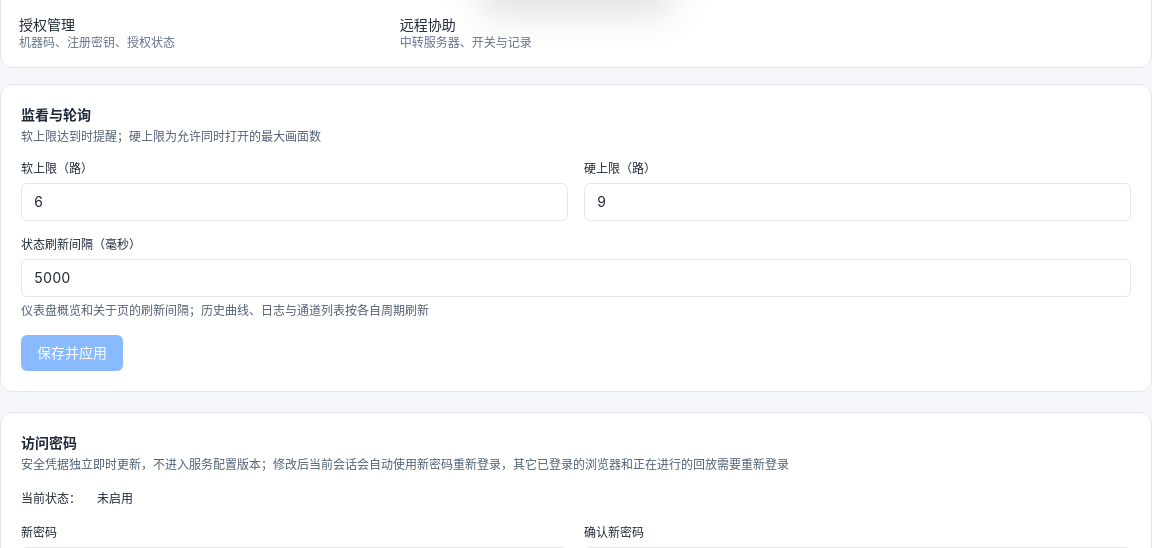
Test: 自动保存应用 › unlocks and reports server timeout
(page scrolled)
Expected: the heading "监看与轮询" is shown, x1=21 y1=106 x2=91 y2=123
Replace the text in the number field showing "6" with "5". click: coordinates (294, 202)
box: x1=21 y1=183 x2=568 y2=221
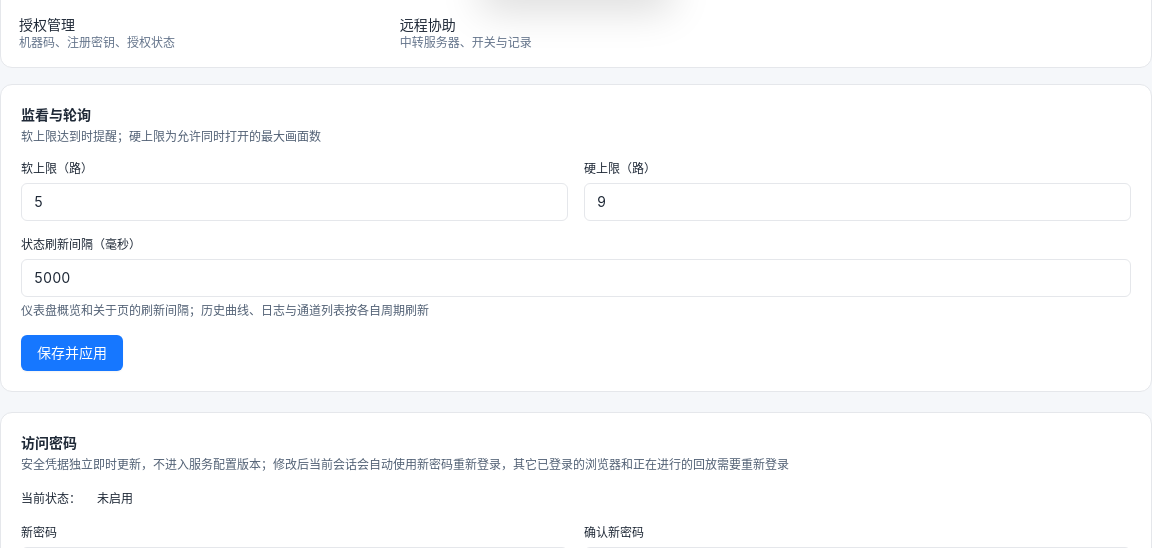
Click the button "保存并应用". click: coordinates (72, 353)
box: x1=21 y1=335 x2=123 y2=371
Wait 1600 ms
(page scrolled)
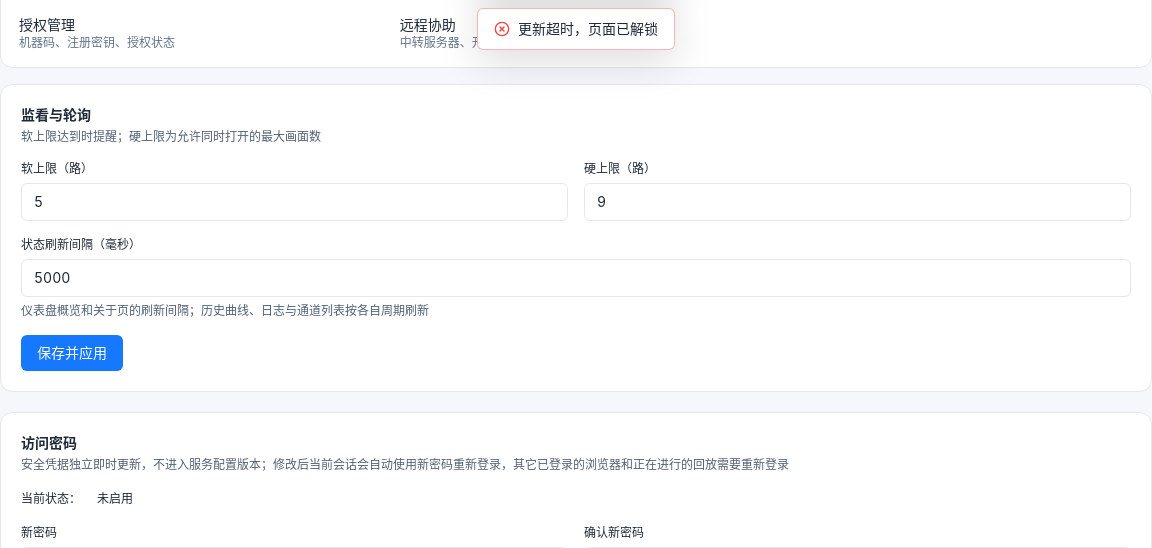
Expected: the text "更新超时，页面已解锁" is shown, x1=518 y1=19 x2=658 y2=39
